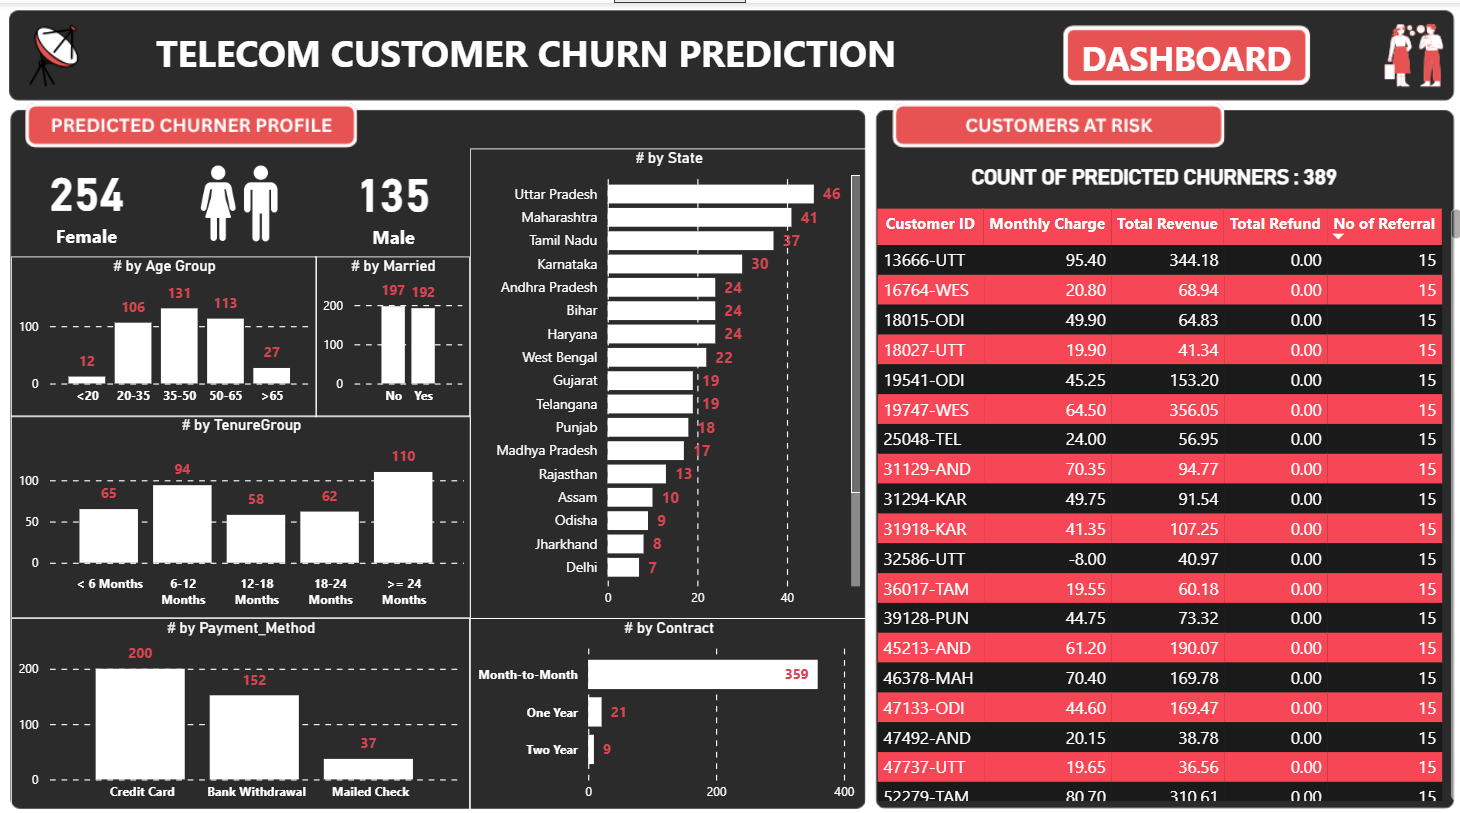

Layout of this report page (visuals, bound fields, positions):
{"tool":"powerbi","page":{"name":"Prediction","canvas":[1280,720],"ordinal":1},"visuals":[{"type":"textbox","box":[43.9,15.1,829.8,68.1],"z":0},{"type":"actionButton","box":[929.7,15.1,210.5,54.5],"z":1},{"type":"card","fields":{"Values":["Z_Measures.Title Predicted Churner"]},"box":[832.9,126.8,347.8,48.4],"z":2},{"type":"card","fields":{"Values":["Z_Measures.Count Predicted Churners"]},"box":[10,125.5,130.9,95.5],"z":3},{"type":"card","fields":{"Values":["Z_Measures.Count Predicted Churners"]},"box":[276.5,126.5,135.5,94.5],"z":4},{"type":"clusteredColumnChart","fields":{"Category":["Mapping_ageGRp.Age Group"],"Y":["CountNonNull(Predictions.Customer_ID)"]},"box":[10,220.9,266.4,140],"z":5},{"type":"clusteredColumnChart","fields":{"Y":["CountNonNull(Predictions.Customer_ID)"],"Category":["Predictions.Married"]},"box":[275.5,221,134.5,140],"z":6},{"type":"tableEx","fields":{"Values":["Predictions.Customer_ID","Sum(Predictions.Monthly_Charge)","Sum(Predictions.Total_Revenue)","Sum(Predictions.Total_Refunds)","Sum(Predictions.Number_of_Referrals)"]},"box":[760,174,520,526],"z":7},{"type":"clusteredColumnChart","fields":{"Y":["CountNonNull(Predictions.Customer_ID)"],"Category":["Mapping_tenureGRP.TenureGroup"]},"box":[10,360,400.7,176.7],"z":8},{"type":"columnChart","fields":{"Category":["Predictions.Payment_Method"],"Y":["CountNonNull(Predictions.Customer_ID)"]},"box":[10,536.2,400,170],"z":9},{"type":"barChart","fields":{"Category":["Predictions.State"],"Y":["CountNonNull(Predictions.Customer_ID)"]},"box":[410,126.2,346.2,410],"z":10},{"type":"barChart","fields":{"Y":["CountNonNull(Predictions.Customer_ID)"],"Category":["Predictions.Contract"]},"box":[410,536.2,346.2,170],"z":11},{"type":"image","box":[141.2,126.8,136,94.1],"z":12}]}

Visuals, with their boxes in screenshot pixels (x1, y1, x2, y2), scaled from the page's 1280x720 canvas onto the 1460x813 screenshot:
textbox: bbox=(50, 17, 997, 94)
actionButton: bbox=(1060, 17, 1301, 79)
card - Z_Measures.Title Predicted Churner: bbox=(950, 143, 1347, 198)
card - Z_Measures.Count Predicted Churners: bbox=(11, 142, 161, 250)
card - Z_Measures.Count Predicted Churners: bbox=(315, 143, 470, 250)
clusteredColumnChart - Mapping_ageGRp.Age Group x CountNonNull(Predictions.Customer_ID): bbox=(11, 249, 315, 408)
clusteredColumnChart - CountNonNull(Predictions.Customer_ID) x Predictions.Married: bbox=(314, 250, 468, 408)
tableEx - Predictions.Customer_ID x Sum(Predictions.Monthly_Charge): bbox=(867, 196, 1459, 790)
clusteredColumnChart - CountNonNull(Predictions.Customer_ID) x Mapping_tenureGRP.TenureGroup: bbox=(11, 406, 468, 606)
columnChart - Predictions.Payment_Method x CountNonNull(Predictions.Customer_ID): bbox=(11, 605, 468, 797)
barChart - Predictions.State x CountNonNull(Predictions.Customer_ID): bbox=(468, 143, 863, 605)
barChart - CountNonNull(Predictions.Customer_ID) x Predictions.Contract: bbox=(468, 605, 863, 797)
image: bbox=(161, 143, 316, 249)
